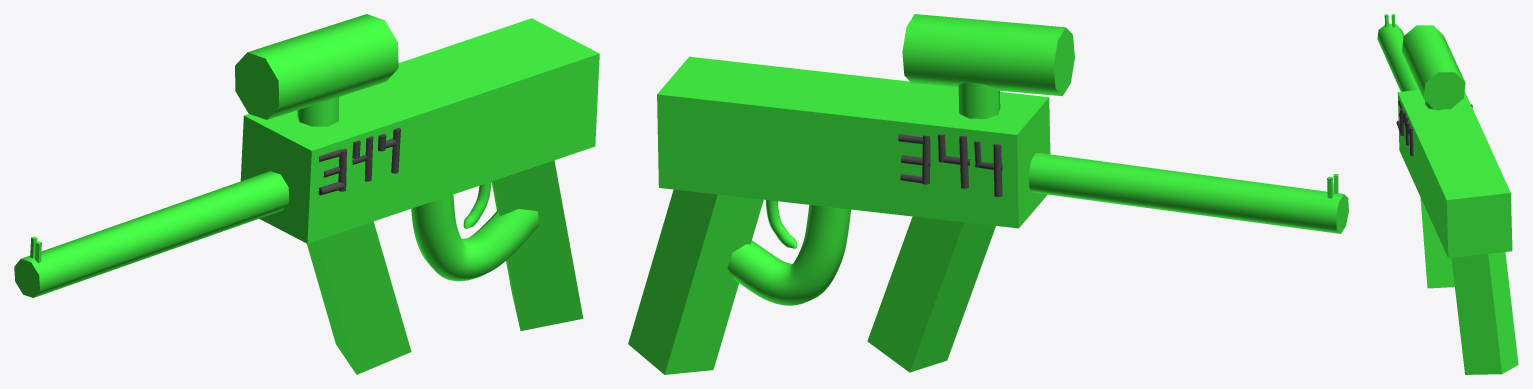
The model's file is paintballGun.fbx.
The picture shows the model from 3 angles, left to right: view 1: azimuth 30°, elevation 25°; view 2: azimuth 150°, elevation 25°; view 3: azimuth 270°, elevation 25°; orthographic projection. The views are drawn at different scales.
Parts seen in each view (by area): view 1: position; view 2: position; view 3: position.
Part boxes in pixels (x1,y1,x2,y2): position: (14,14,599,374); position: (628,14,1348,374); position: (1377,14,1518,374).
Size of the model in its own units: 60.69 by 34.91 by 18.23.
